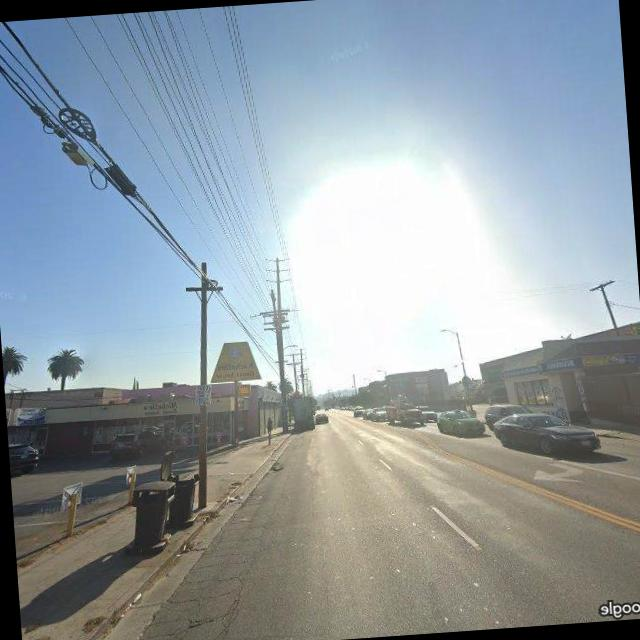crack: (121, 531, 275, 640)
